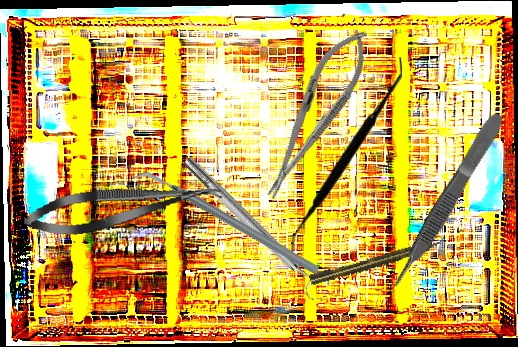Chopper: (130, 118, 322, 327)
Fixation Ring: (176, 147, 333, 304)
Handpiece: (308, 235, 447, 287)
Micro Scissor: (21, 170, 224, 243)
Needle Holder: (249, 19, 382, 208)
Spatula Surgical: (289, 57, 402, 254)
Tissue Forceps: (385, 110, 509, 291)
